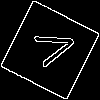V: (25, 25, 78, 71)
